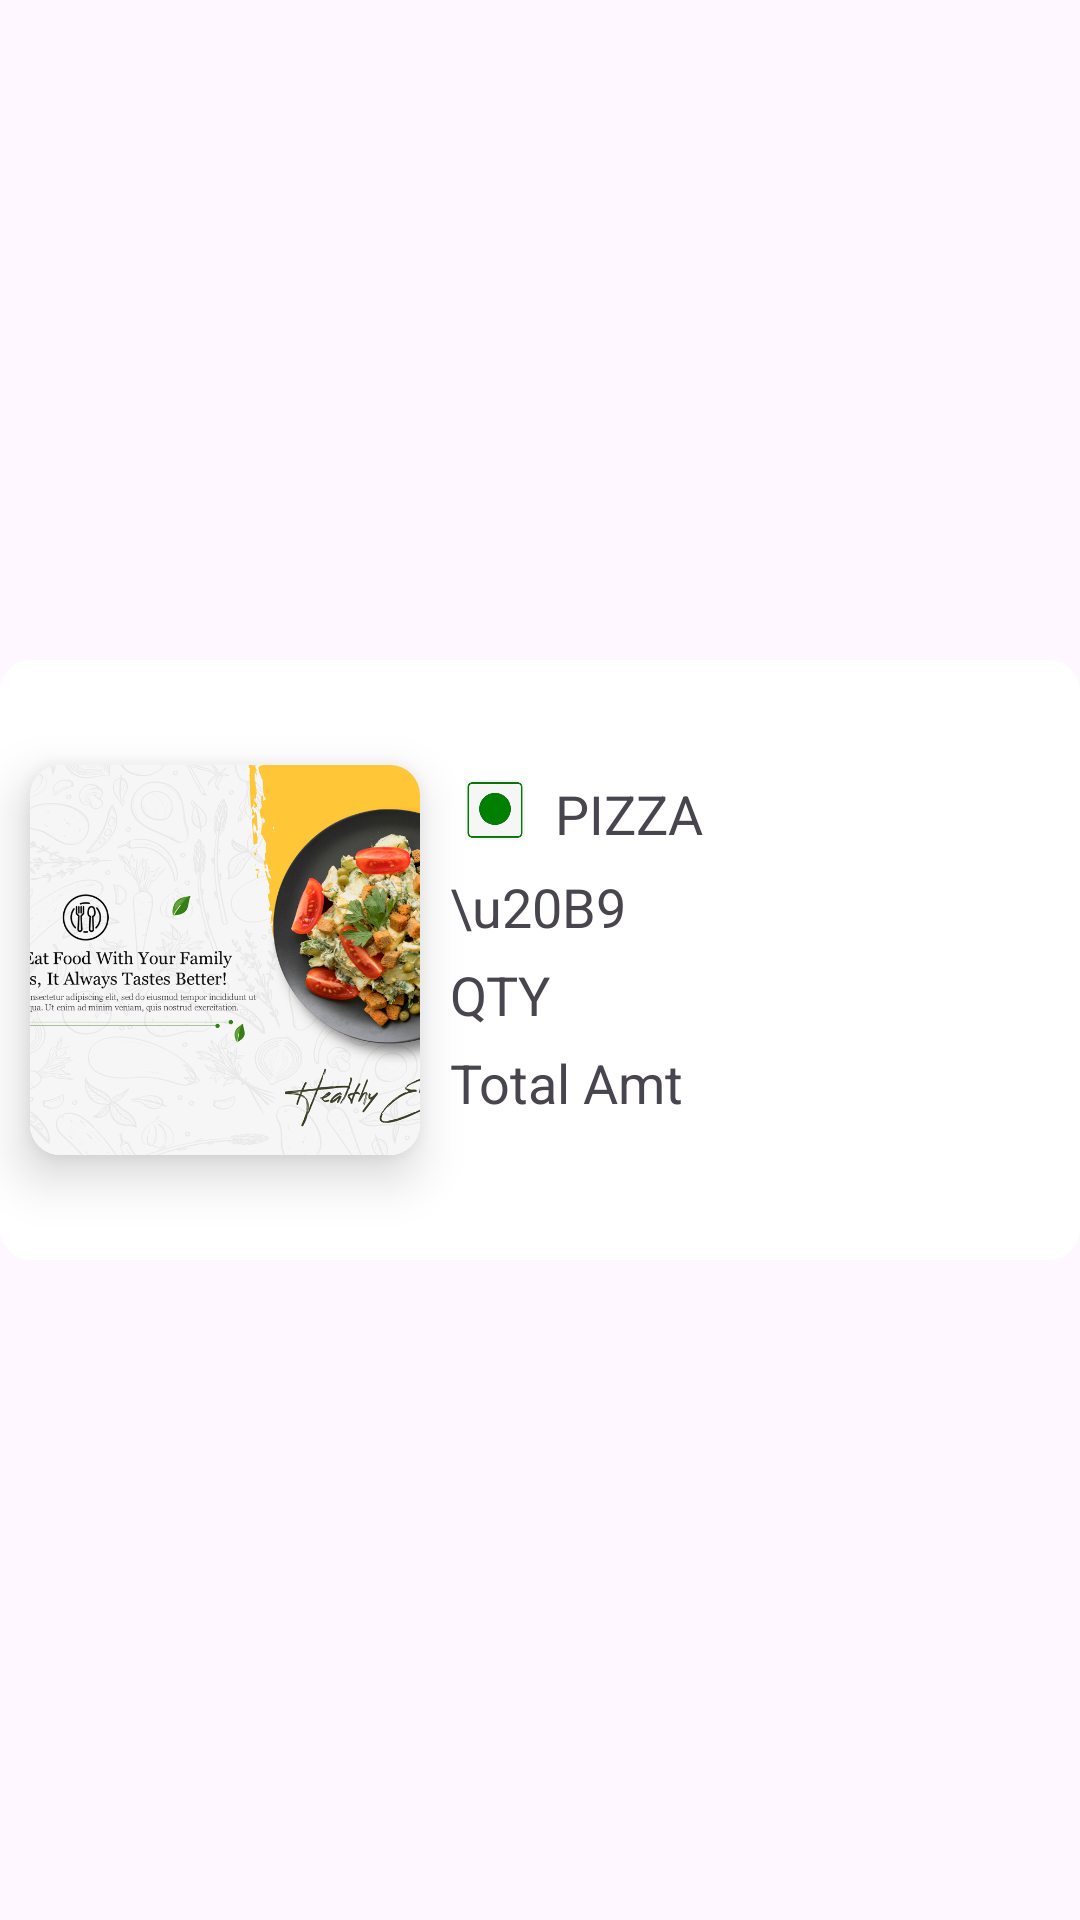

Screen size 1080x1920. Icon name, then its center in pixels as (x=x, y=y):
veg: (x=495, y=810)
